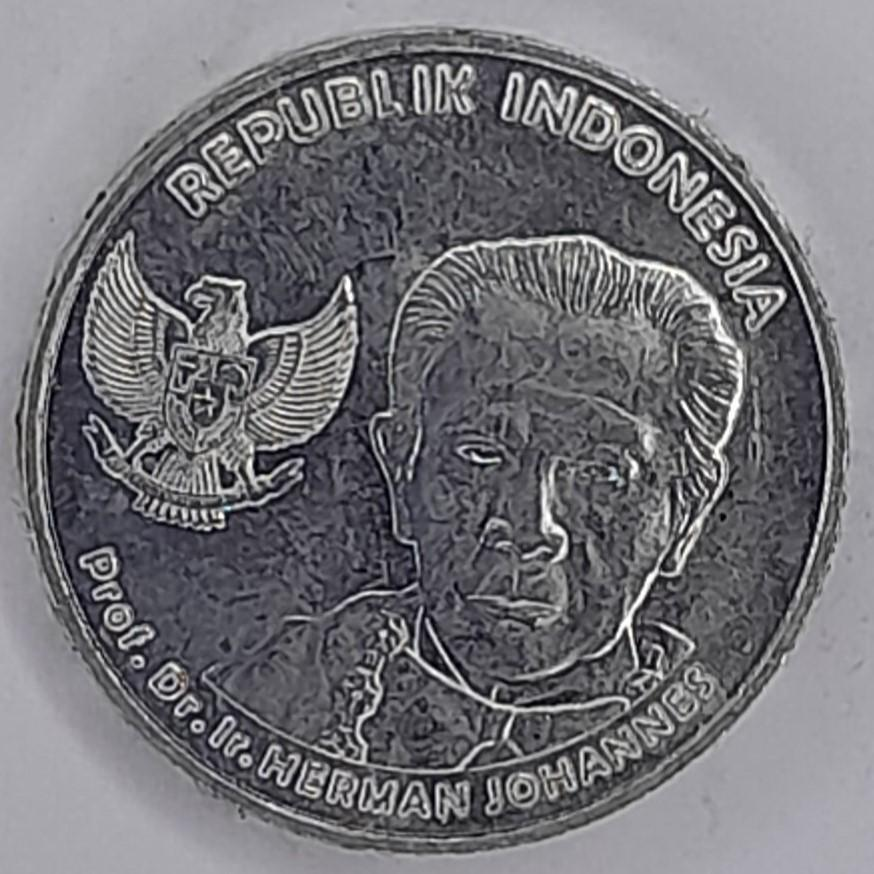coin_100_e2016: (9, 21, 854, 857)
